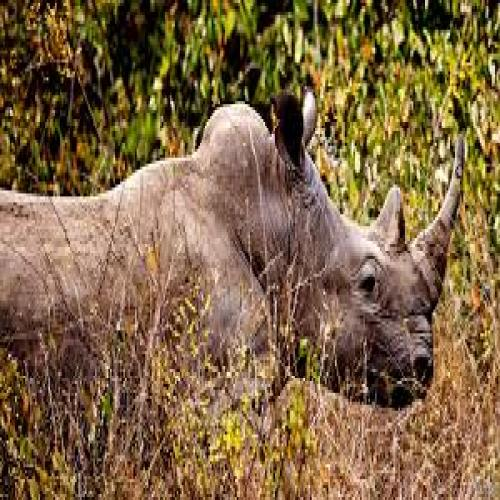rhino-endangered: (0, 93, 464, 454)
